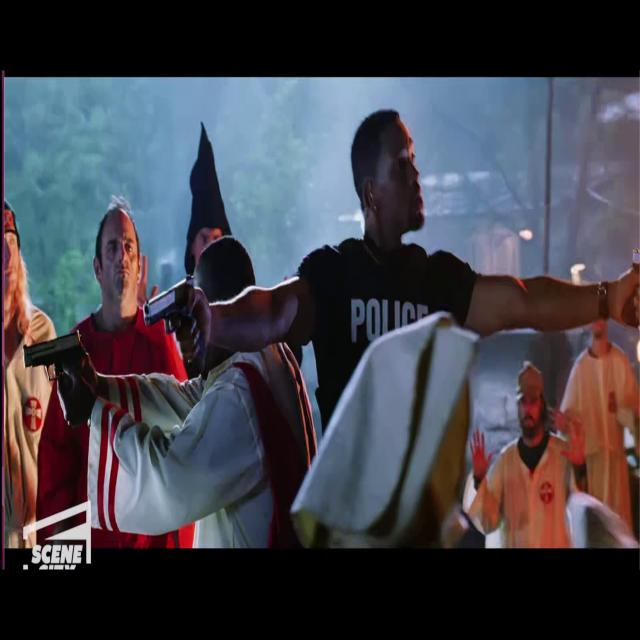weapons: (17, 317, 96, 426), (139, 270, 210, 383)
